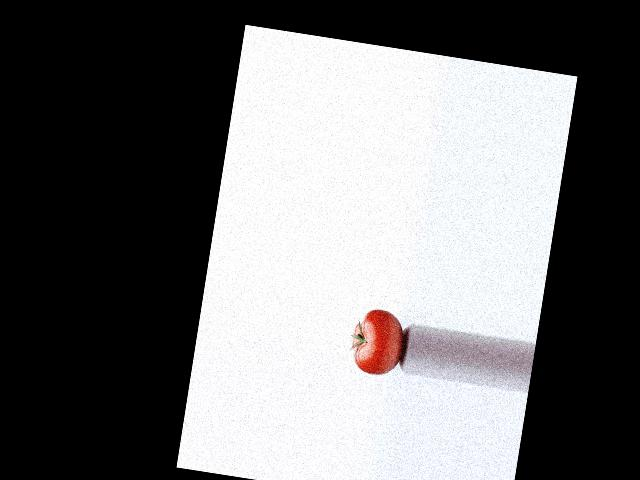tomato: (348, 306, 407, 378)
